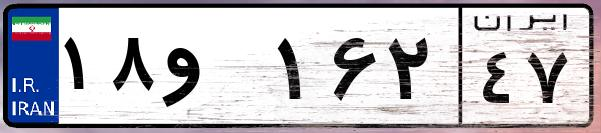1: (270, 28, 330, 110), (57, 26, 110, 100)
2: (385, 28, 445, 110)
4: (475, 38, 525, 113)
6: (330, 28, 385, 110)
7: (525, 38, 570, 115)
8: (110, 28, 158, 98)
و: (158, 20, 270, 120)
